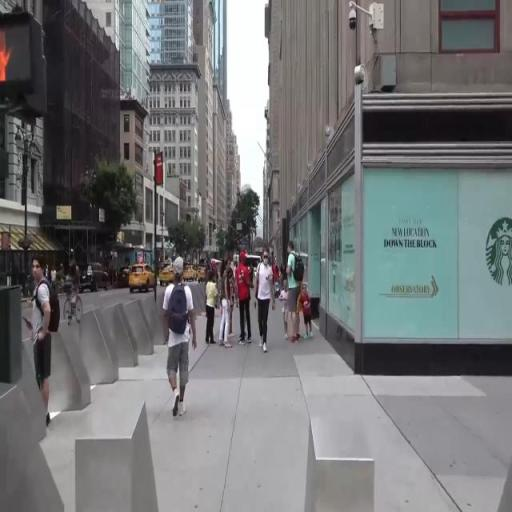person: (161, 250, 192, 422), (31, 255, 61, 426), (256, 246, 275, 351), (235, 253, 253, 349), (287, 239, 301, 350), (220, 260, 232, 359), (207, 272, 216, 354), (279, 279, 290, 332), (303, 281, 313, 337)
